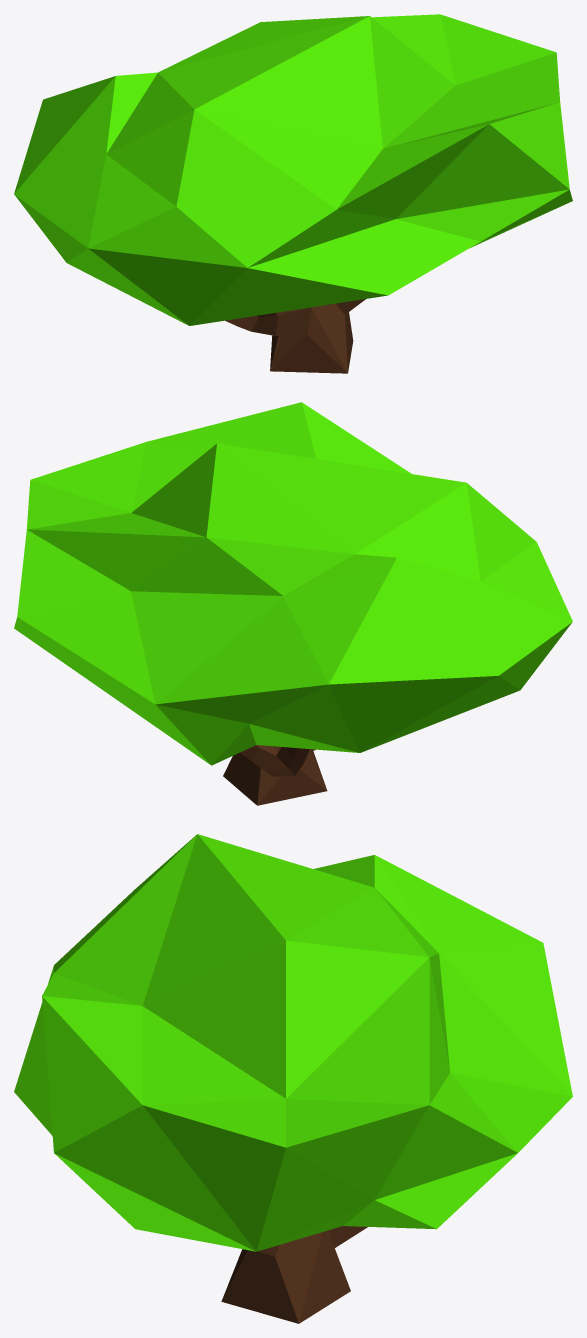
The model's file is Bush1.fbx.
3 views of the same model, one above another, from view 1: azimuth 30°, elevation 25°; view 2: azimuth 150°, elevation 25°; view 3: azimuth 270°, elevation 25° (orthographic). The views are drawn at different scales.
Parts seen in each view (by area): view 1: Leaves7, Trunk7; view 2: Leaves7, Trunk7; view 3: Leaves7, Trunk7.
Boxes of the visible parts, x1,y1,x2,y2 form: Leaves7: (14, 14, 572, 325); Trunk7: (225, 299, 365, 373); Leaves7: (14, 402, 572, 765); Trunk7: (223, 745, 327, 805); Leaves7: (14, 834, 572, 1251); Trunk7: (221, 1226, 367, 1323).
Bounding box in the file's own units: 163 × 204 × 126.
